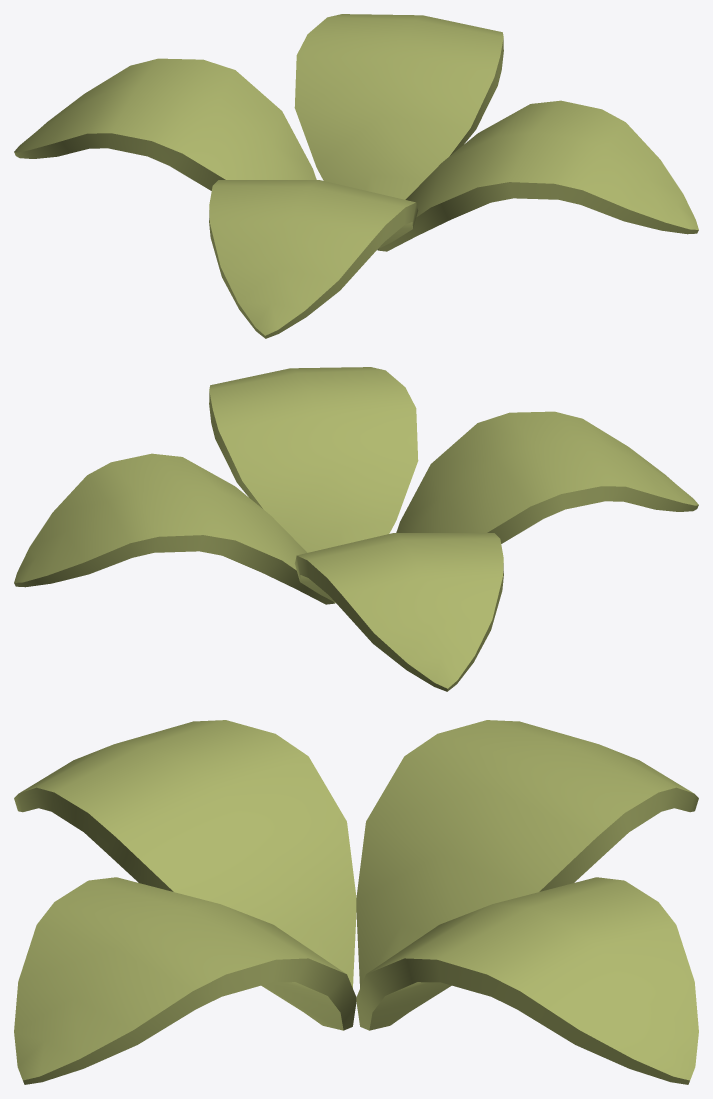
Rendered from plant_small.glb.
The picture shows the model from 3 angles, top to bottom: view 1: azimuth 30°, elevation 25°; view 2: azimuth 150°, elevation 25°; view 3: azimuth 270°, elevation 25°; orthographic projection. The views are drawn at different scales.
Visible parts, largest first — view 1: merged; view 2: merged; view 3: merged.
Part boxes in pixels (x1,y1,x2,y2): merged: (14,14,698,338); merged: (14,367,698,691); merged: (14,720,698,1084).
Size of the model in its own units: 1.03 by 0.2867 by 1.03.
